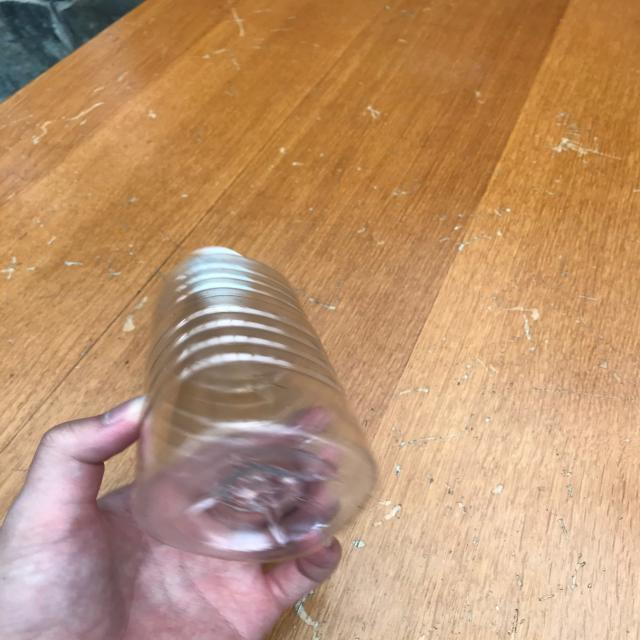plastic_bottle: (133, 247, 377, 563)
